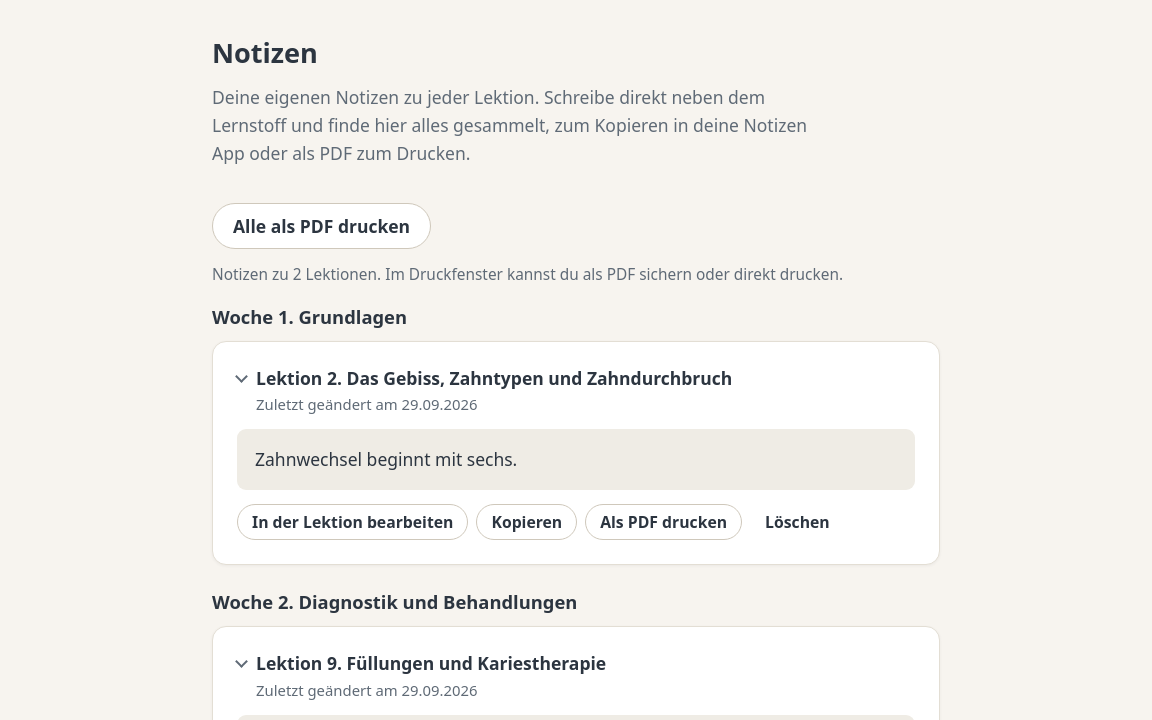
Test: notes page › groups notes by week and lesson and deletes with a tombstone
Expected: the heading "Woche 1. Grundlagen" is shown, [212, 304, 407, 329]
Expected: the heading "Woche 2. Diagnostik und Behandlungen" is shown, [212, 589, 577, 614]
What coordinates should you click on to do the following:
click the button "Löschen"
I would click on:
 (797, 522)
Its box is [750, 504, 845, 540].
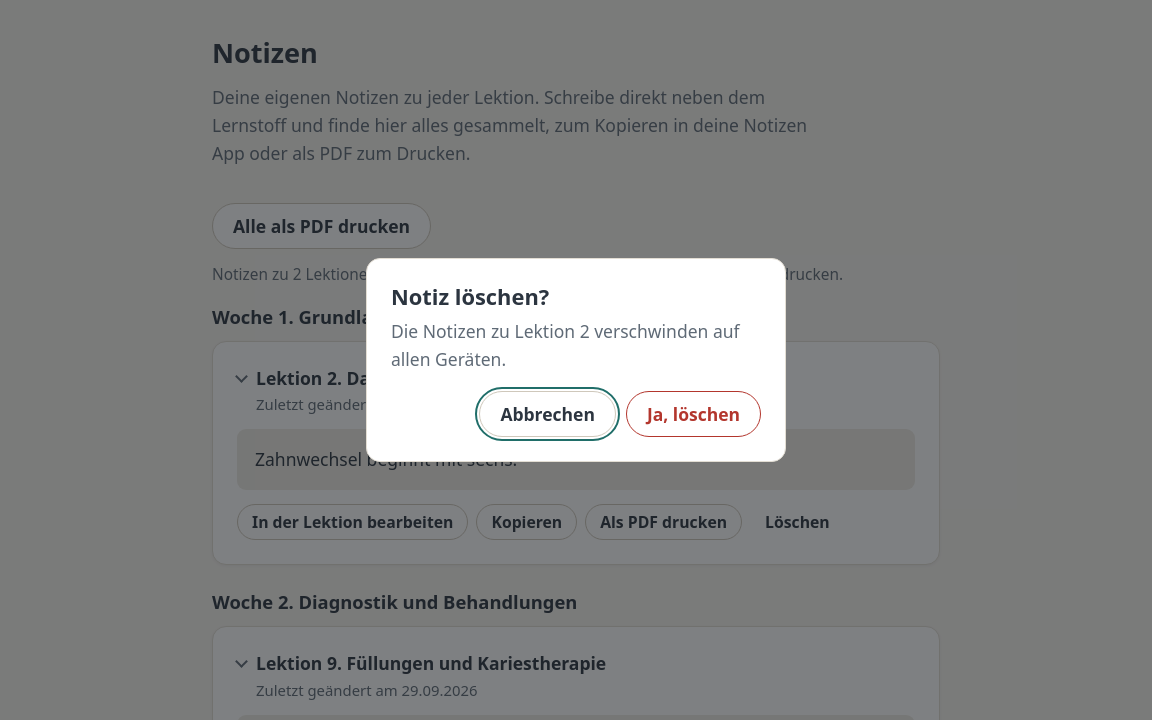
What coordinates should you click on to do the following:
click the button "Ja, löschen"
I would click on:
 (693, 414)
Its box is [626, 391, 761, 437].
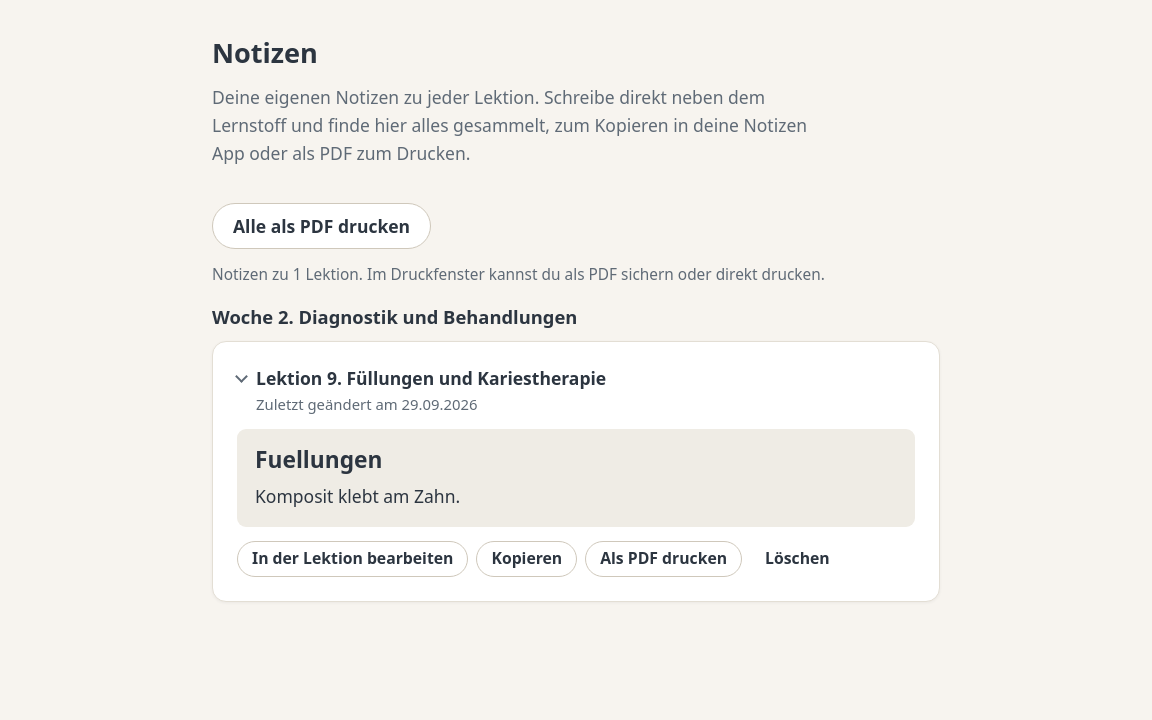
Expected: the text "Zahnwechsel beginnt mit sechs." is gone
